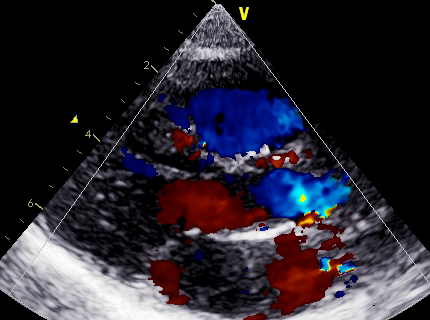AR: (180, 170, 262, 234)
